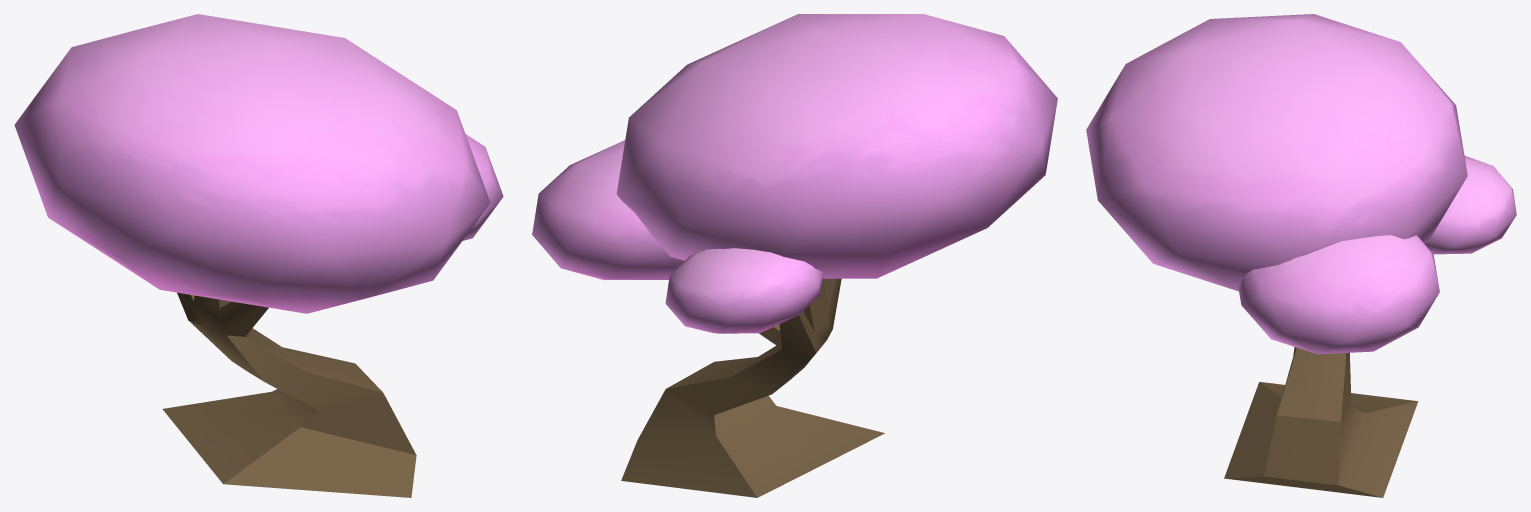
Rendered from M_blockout_tree.fbx.
3 renders of one model, left to right at view 1: azimuth 30°, elevation 25°; view 2: azimuth 150°, elevation 25°; view 3: azimuth 270°, elevation 25°, orthographic. The views are drawn at different scales.
Parts seen in each view (by area): view 1: SkuraTree; view 2: SkuraTree; view 3: SkuraTree.
Boxes of the visible parts, x1=… form: SkuraTree: x1=14, y1=14, x2=503, y2=497; SkuraTree: x1=532, y1=14, x2=1057, y2=497; SkuraTree: x1=1086, y1=14, x2=1516, y2=497.
Bounding box in the file's own units: 395 × 371 × 383.
